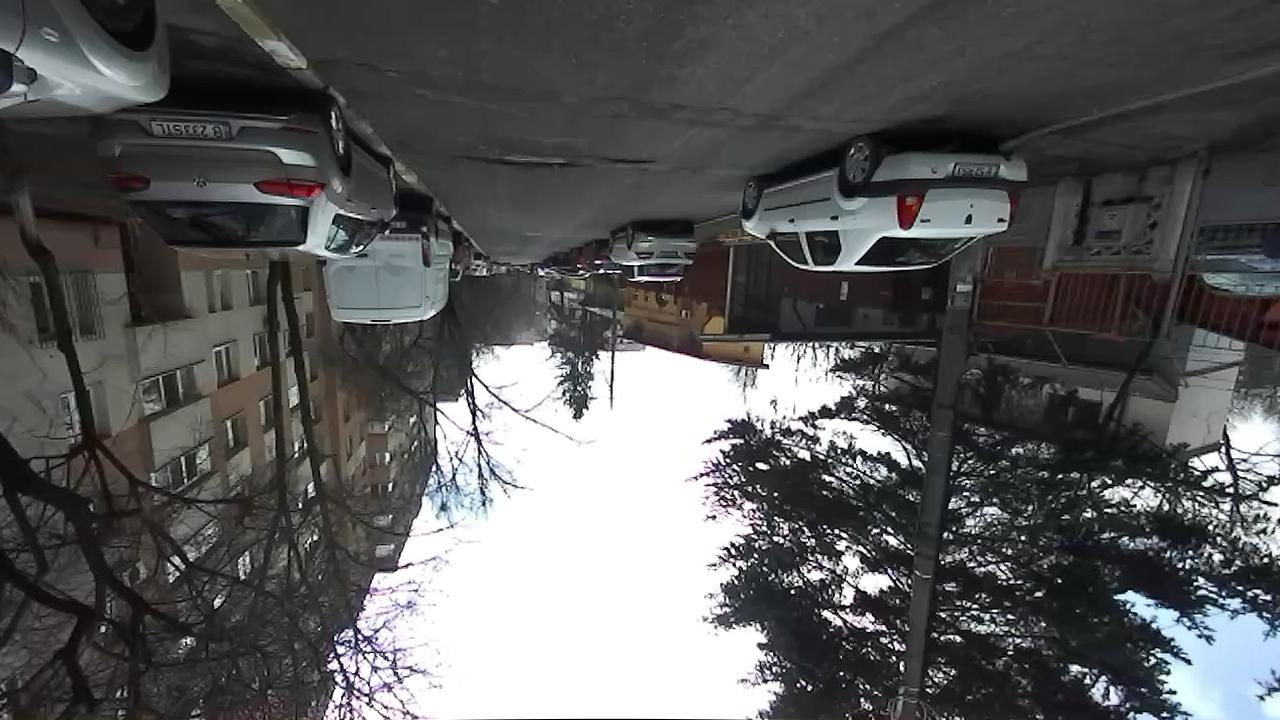pothole: (451, 148, 581, 170), (595, 154, 658, 167)
